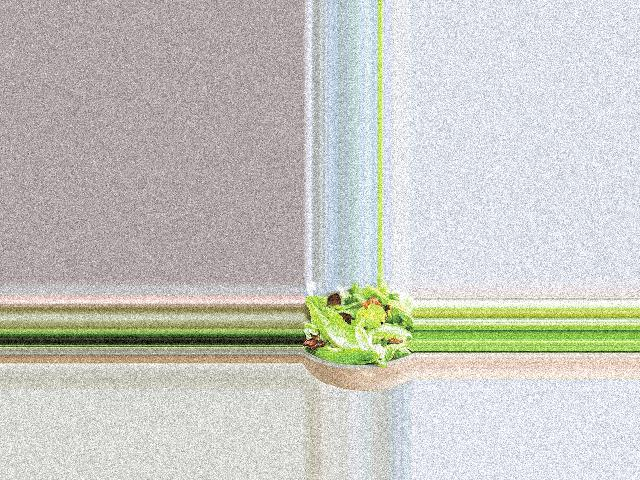lettuce: (313, 287, 407, 365)
